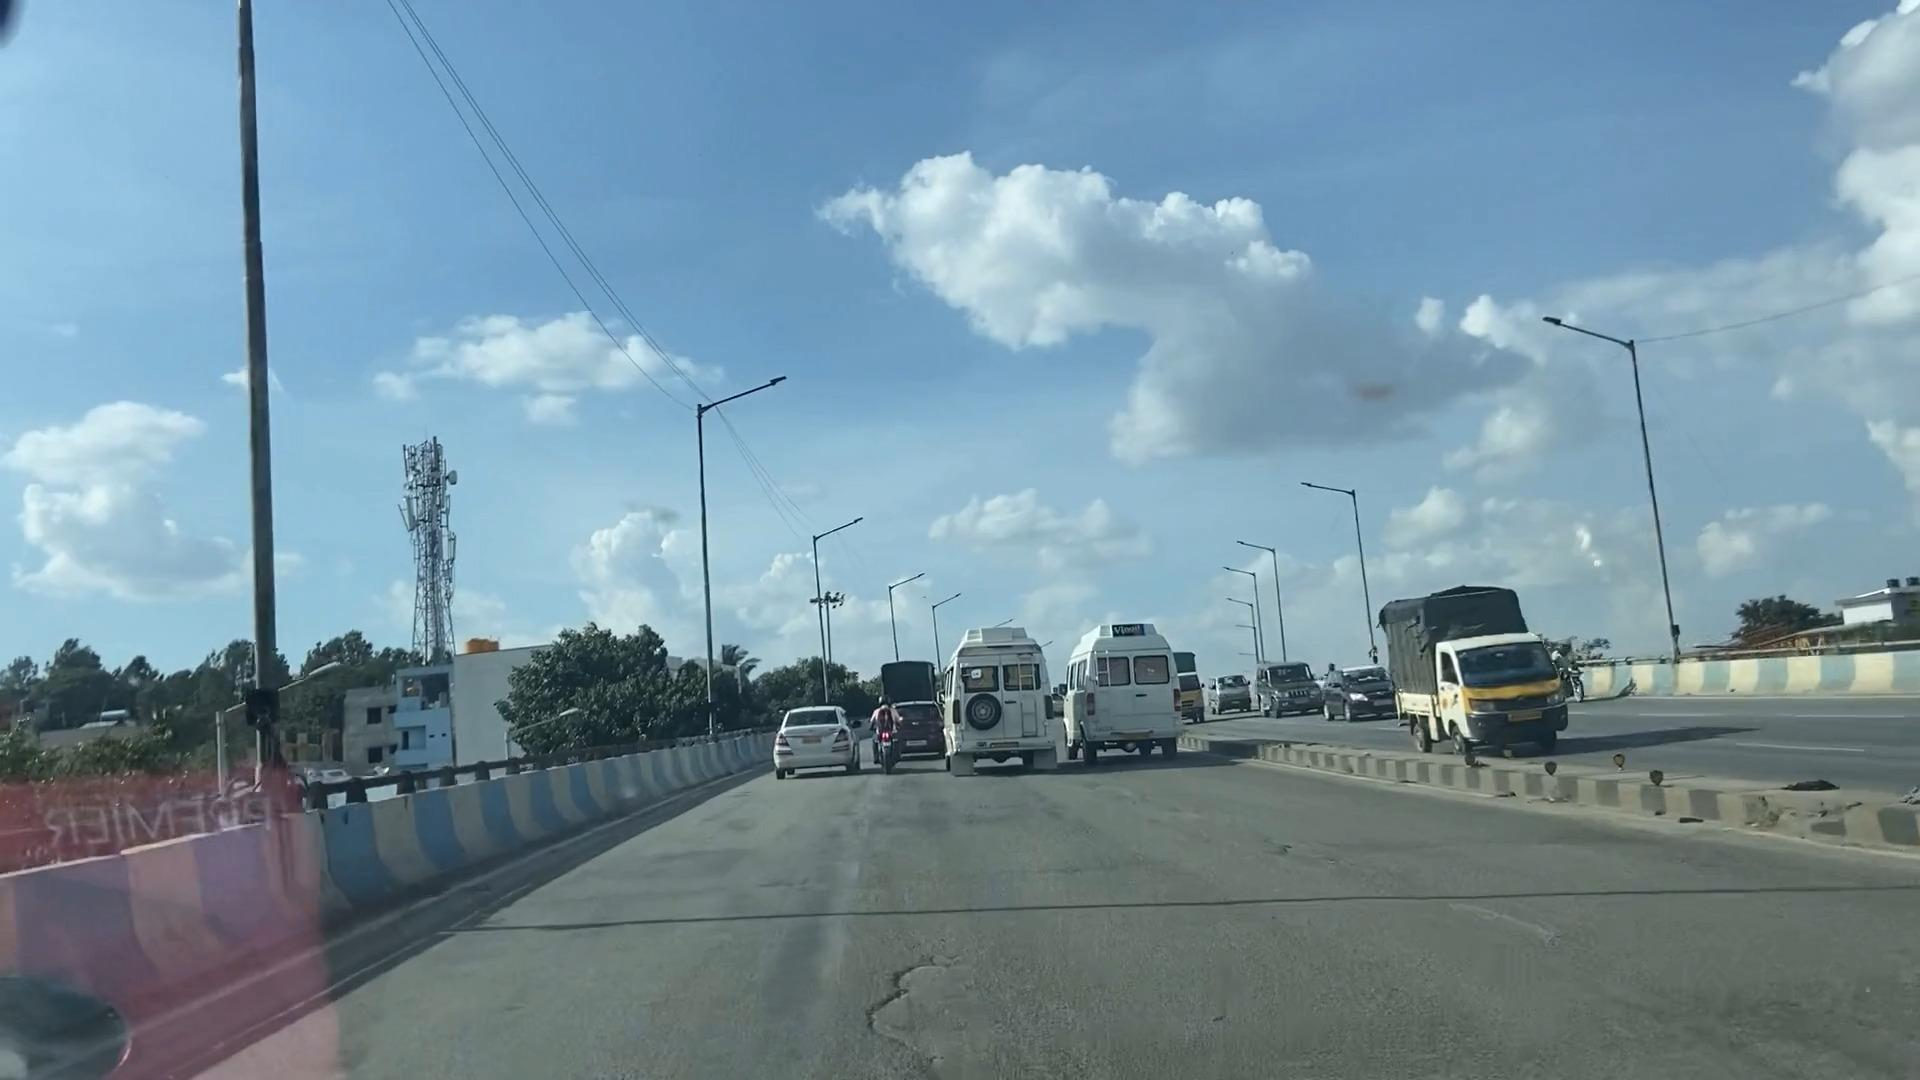HMV: (934, 620, 1063, 779), (1068, 626, 1198, 755)
LMV: (764, 702, 878, 779), (866, 684, 955, 773)
RoadDamages: (812, 910, 1086, 1080)
